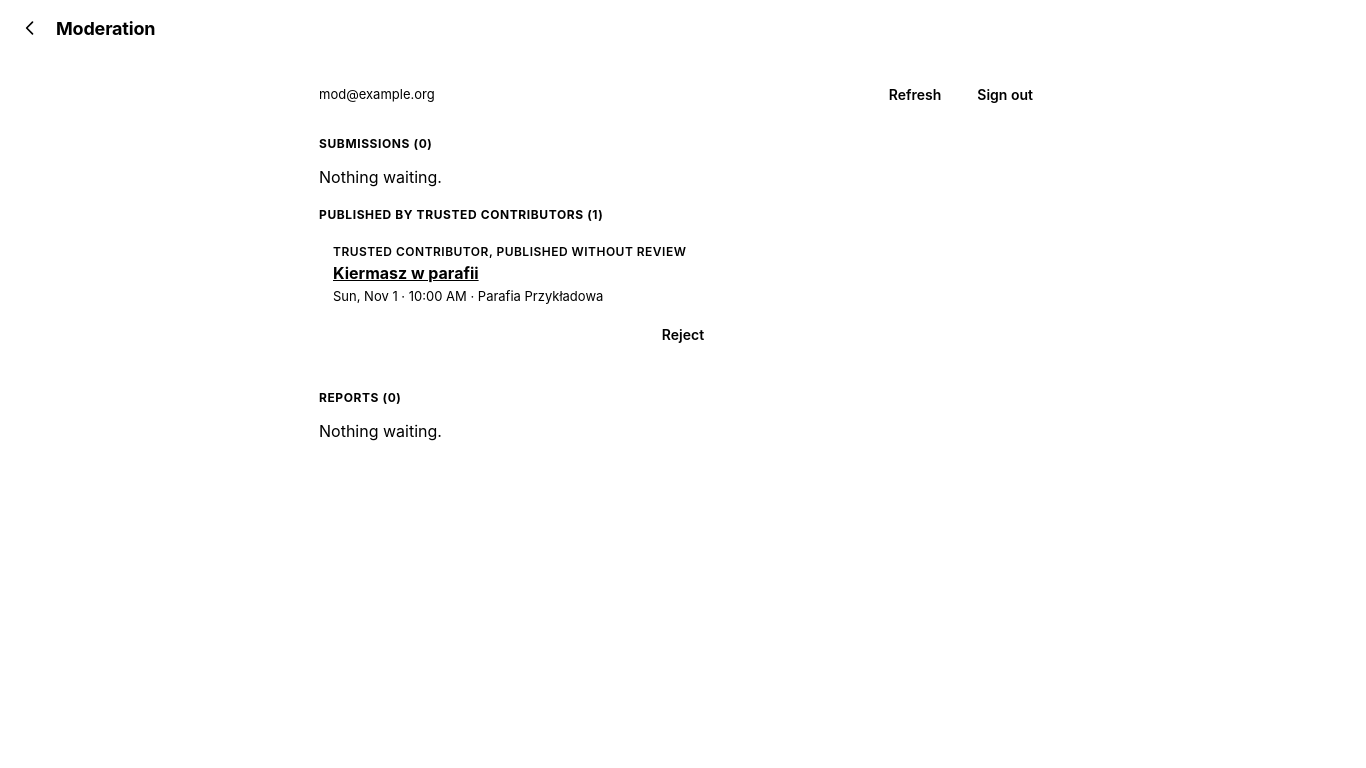
the trusted list in the moderation queue (M12 slice E) › lists what trusted accounts published, with Reject
The image size is (1366, 768).
Expected: the heading "Published by trusted contributors (1)" is shown, [319,207,603,222]
Expected: the text "Trusted contributor, published without review" is shown, [333,244,686,259]
Click the button "Reject" at {"x": 683, "y": 335}, box [333,314,1033,356]
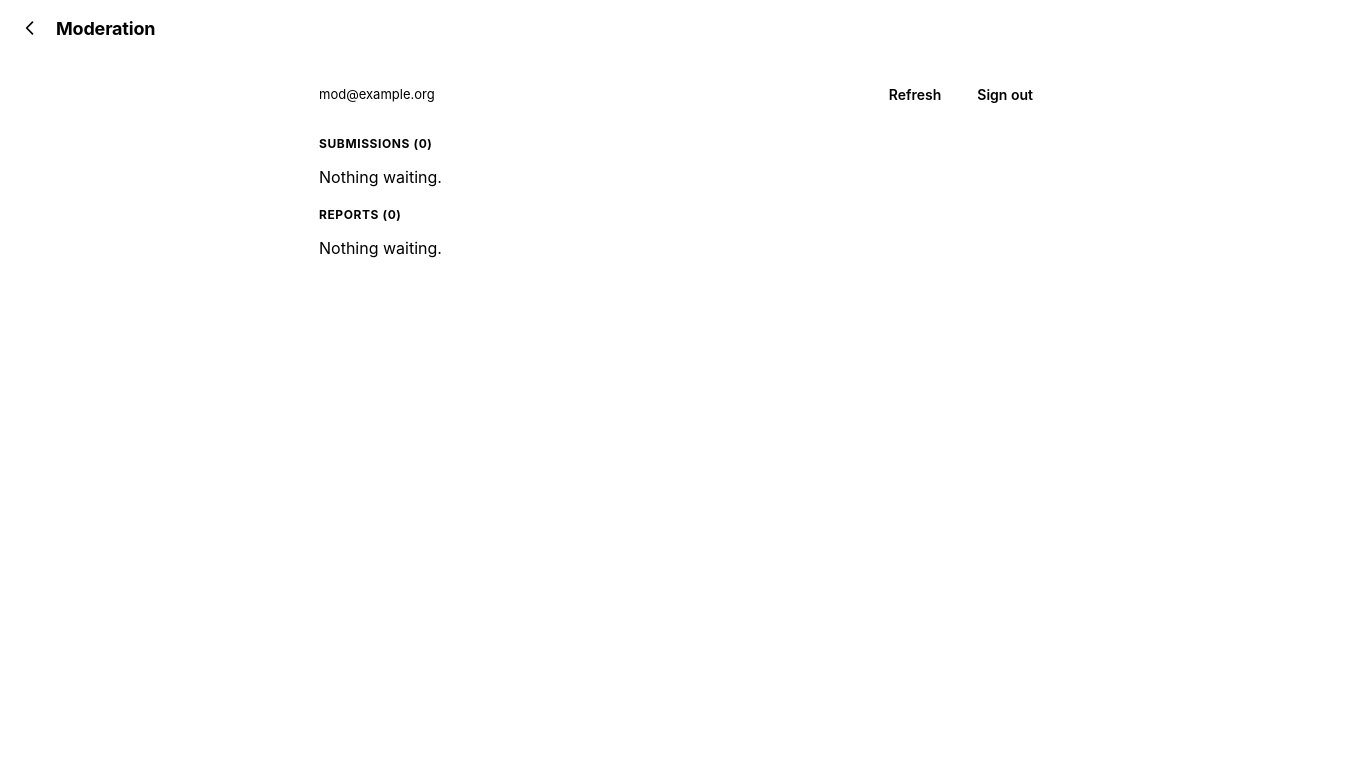
Expected: the link "Kiermasz w parafii" is gone
